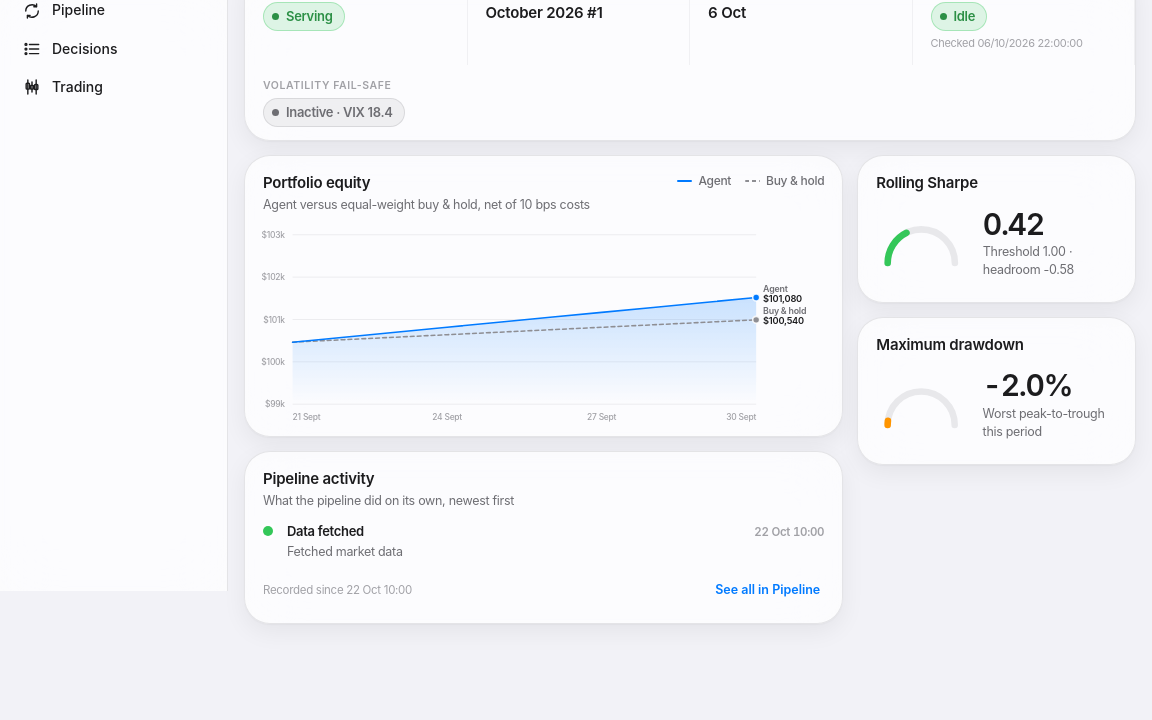
it: sections (sidebar on wide screens, tab bar on narrow) › links from the Overview's short activity list to the full timeline
The width and height of the screenshot is (1152, 720).
(page scrolled)
Click the button "See all in Pipeline": point(768, 590) [711, 575, 824, 605]
(page scrolled)
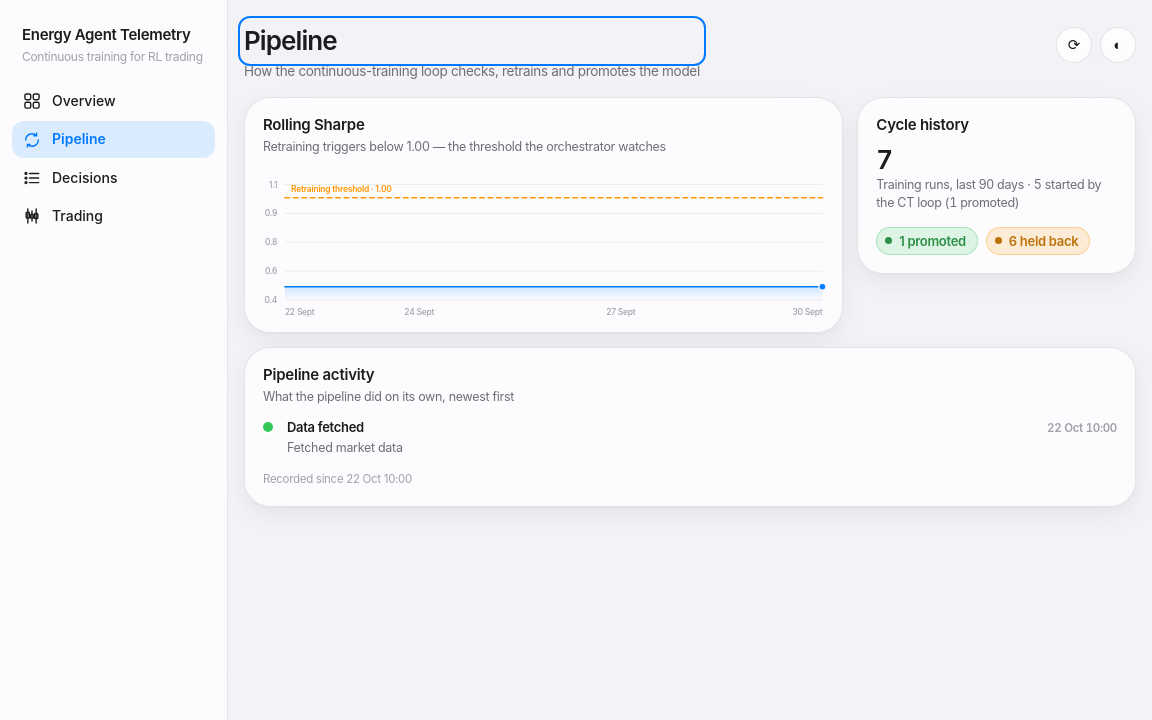
Expected: the heading "Pipeline" is shown, [244, 25, 337, 56]
